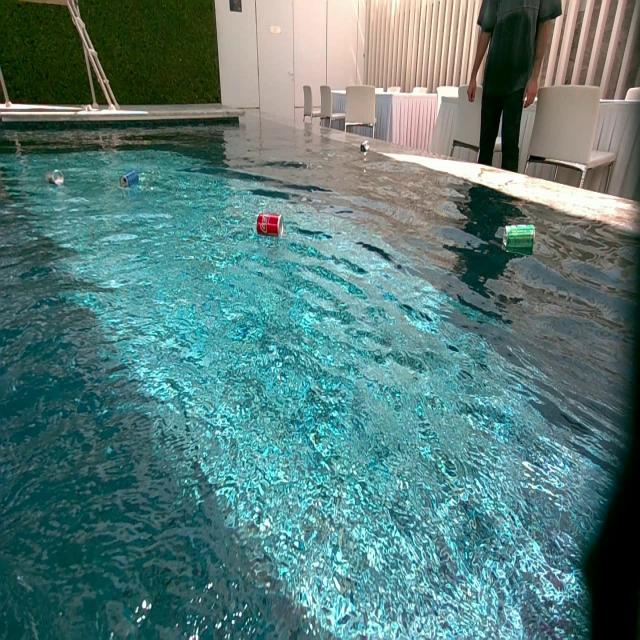Cans: (506, 224, 536, 254), (257, 215, 286, 239), (120, 170, 143, 188), (49, 170, 66, 188), (359, 141, 369, 153)
